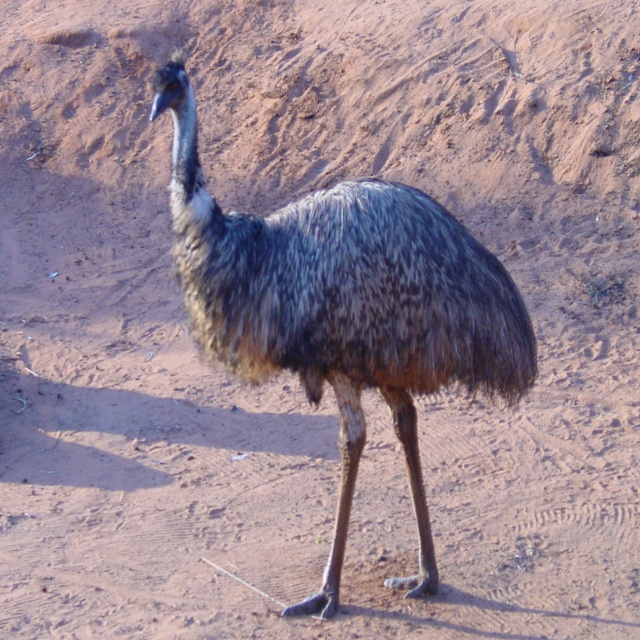Ostrich: (147, 48, 540, 621)
